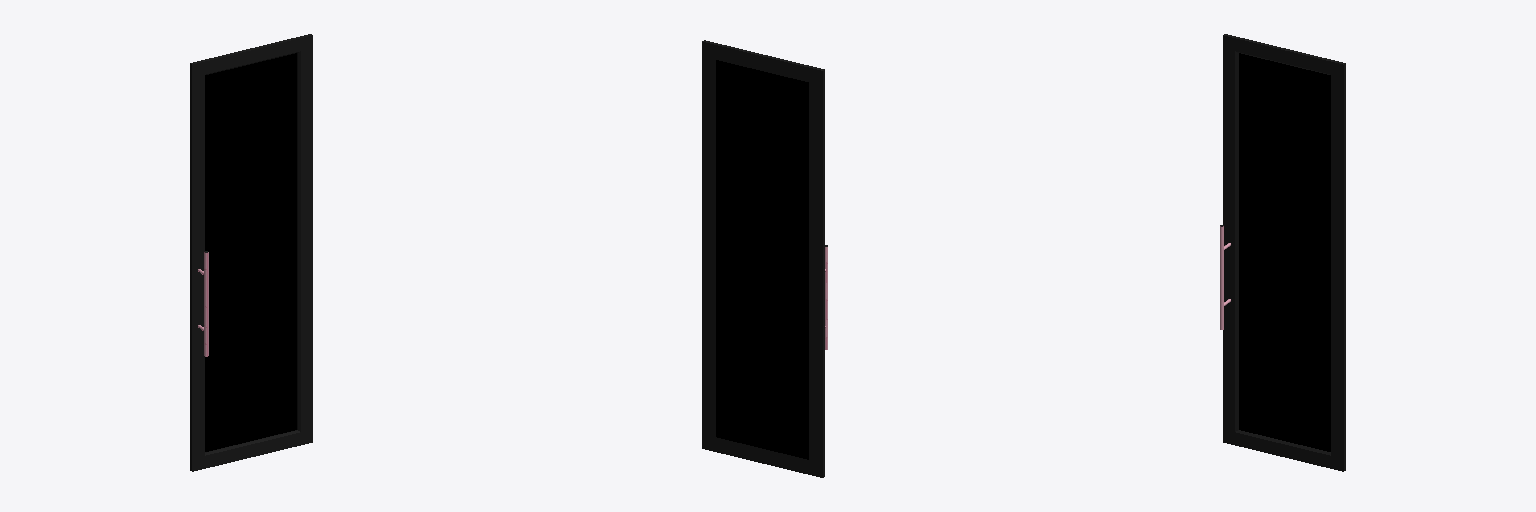
The picture shows the model from 3 angles: view 1: azimuth 30°, elevation 25°; view 2: azimuth 150°, elevation 25°; view 3: azimuth 330°, elevation 25°; orthographic projection.
Parts seen in each view (by area): view 1: Mesh1 Group1 Component_62_1 Model, Mesh5 Component_62_1 Model, Mesh4 Group4 Component_65_1 Component_62_1 Model; view 2: Mesh1 Group1 Component_62_1 Model, Mesh5 Component_62_1 Model; view 3: Mesh1 Group1 Component_62_1 Model, Mesh5 Component_62_1 Model.
Part boxes in pixels (left/top/right/bottom): Mesh1 Group1 Component_62_1 Model: left=205, top=53, right=296, bottom=451; Mesh5 Component_62_1 Model: left=190, top=34, right=312, bottom=471; Mesh4 Group4 Component_65_1 Component_62_1 Model: left=204, top=251, right=208, bottom=356; Mesh1 Group1 Component_62_1 Model: left=716, top=60, right=808, bottom=459; Mesh5 Component_62_1 Model: left=702, top=40, right=824, bottom=477; Mesh1 Group1 Component_62_1 Model: left=1239, top=53, right=1330, bottom=451; Mesh5 Component_62_1 Model: left=1223, top=34, right=1345, bottom=471.
Size of the model in its own units: 34 by 109 by 5.22.
3 materials, 1 textured.